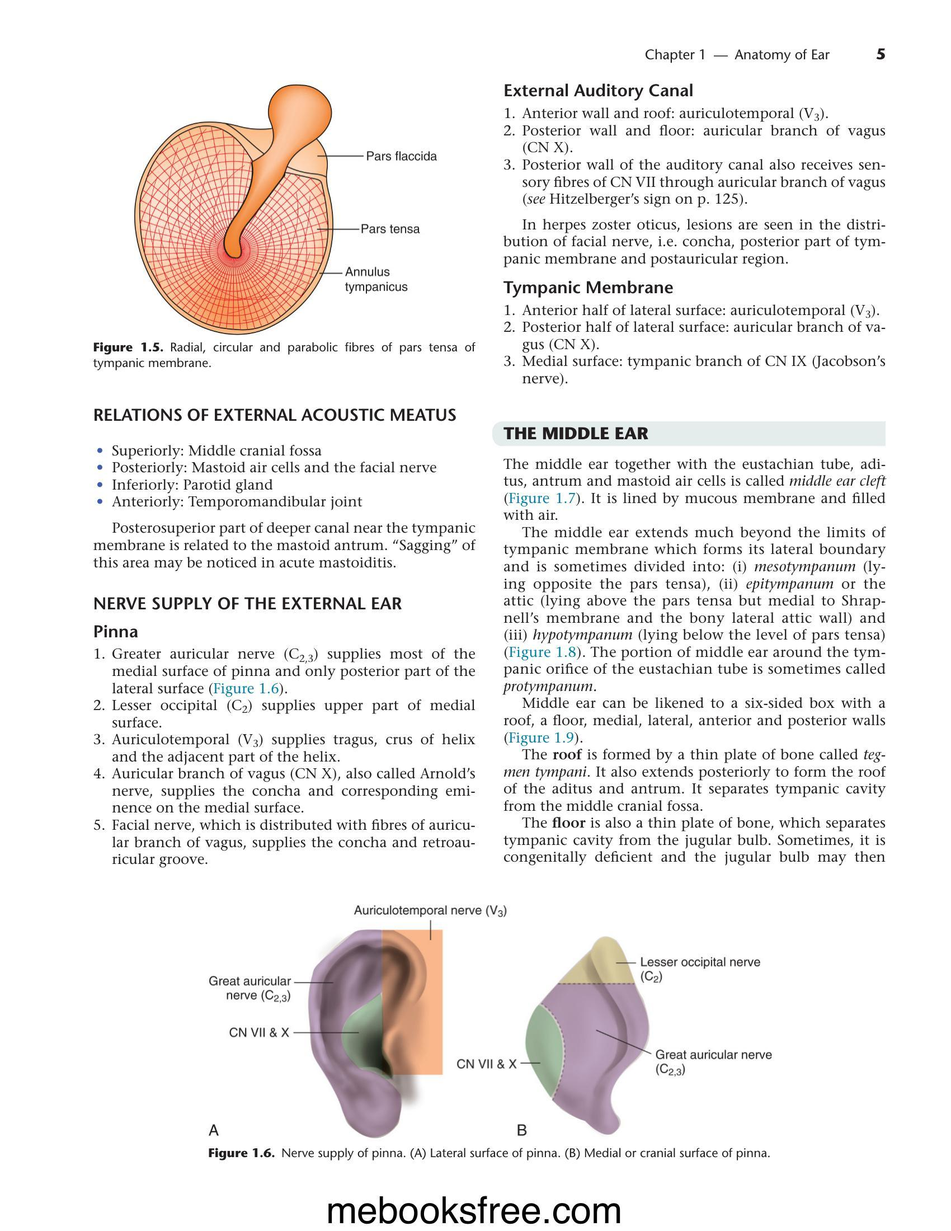caption: (92, 340, 477, 372), (207, 1146, 770, 1162), (207, 1122, 220, 1137), (516, 1123, 528, 1137)
header: (645, 48, 830, 64)
image: (92, 79, 470, 336), (203, 902, 510, 1139), (455, 920, 783, 1141)
list: (91, 646, 477, 868), (503, 106, 887, 208), (502, 303, 887, 387), (95, 443, 438, 510)
section-heading: (501, 424, 650, 441)
sub-section-heading: (93, 406, 458, 423), (94, 595, 404, 611), (503, 83, 694, 101), (502, 279, 675, 298), (93, 623, 139, 639)
text: (502, 455, 888, 867), (91, 519, 478, 572), (502, 218, 888, 268)
